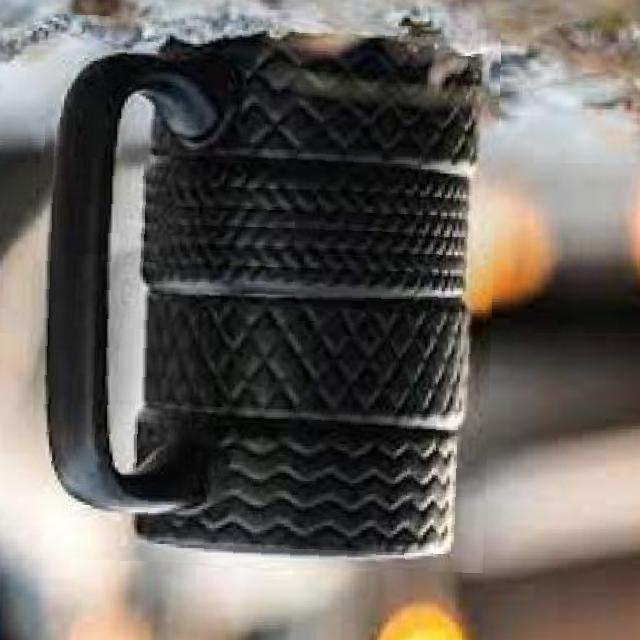cup: (30, 14, 502, 573)
